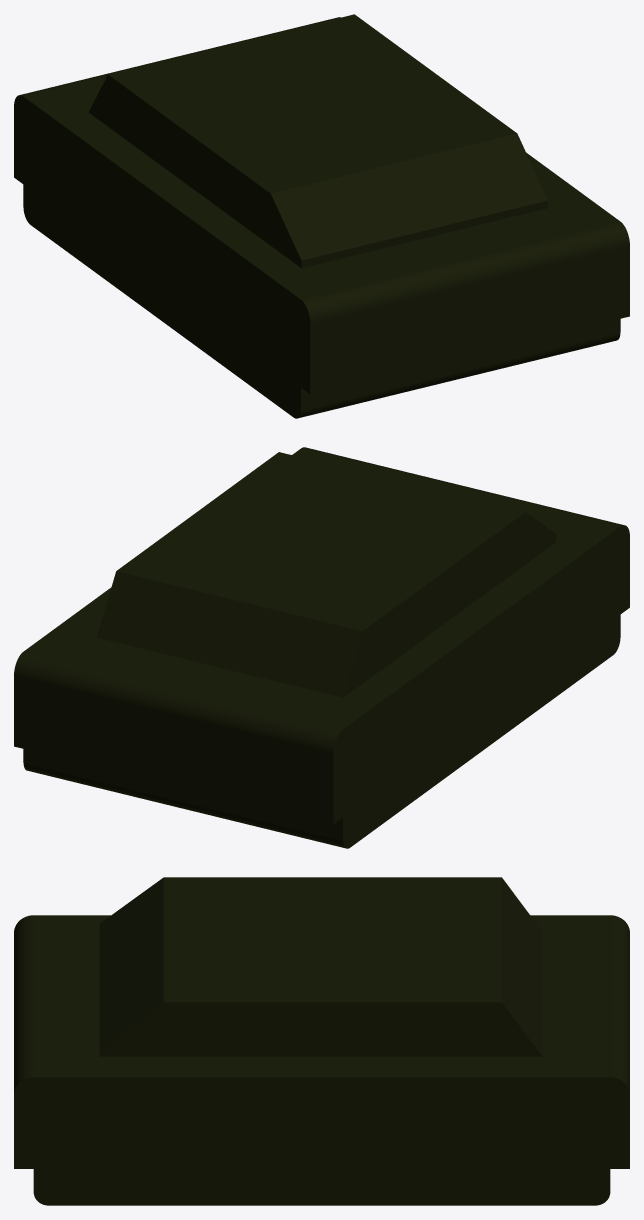
The model's file is body.obj.
The picture shows the model from 3 angles, top to bottom: view 1: azimuth 30°, elevation 25°; view 2: azimuth 150°, elevation 25°; view 3: azimuth 270°, elevation 25°; orthographic projection. The views are drawn at different scales.
Parts seen in each view (by area): view 1: Cube.006; view 2: Cube.006; view 3: Cube.006.
Boxes of the visible parts, left/top/right/bottom form: Cube.006: left=14, top=14, right=629, bottom=418; Cube.006: left=14, top=447, right=629, bottom=848; Cube.006: left=14, top=877, right=629, bottom=1205.
Size of the model in its own units: 0.7782 by 0.4085 by 1.25.
